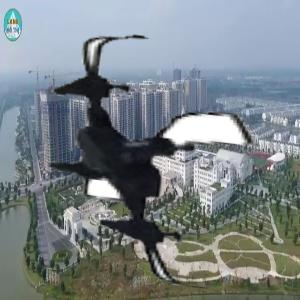drone: (18, 35, 266, 283)
